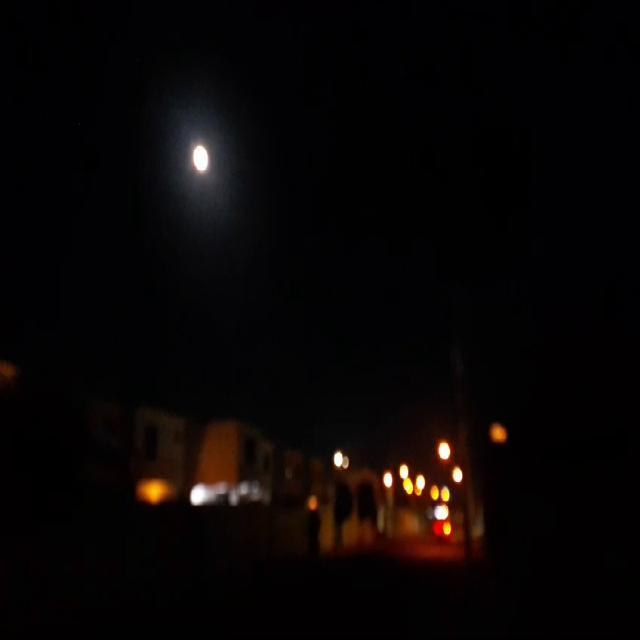moon: (188, 139, 208, 173)
